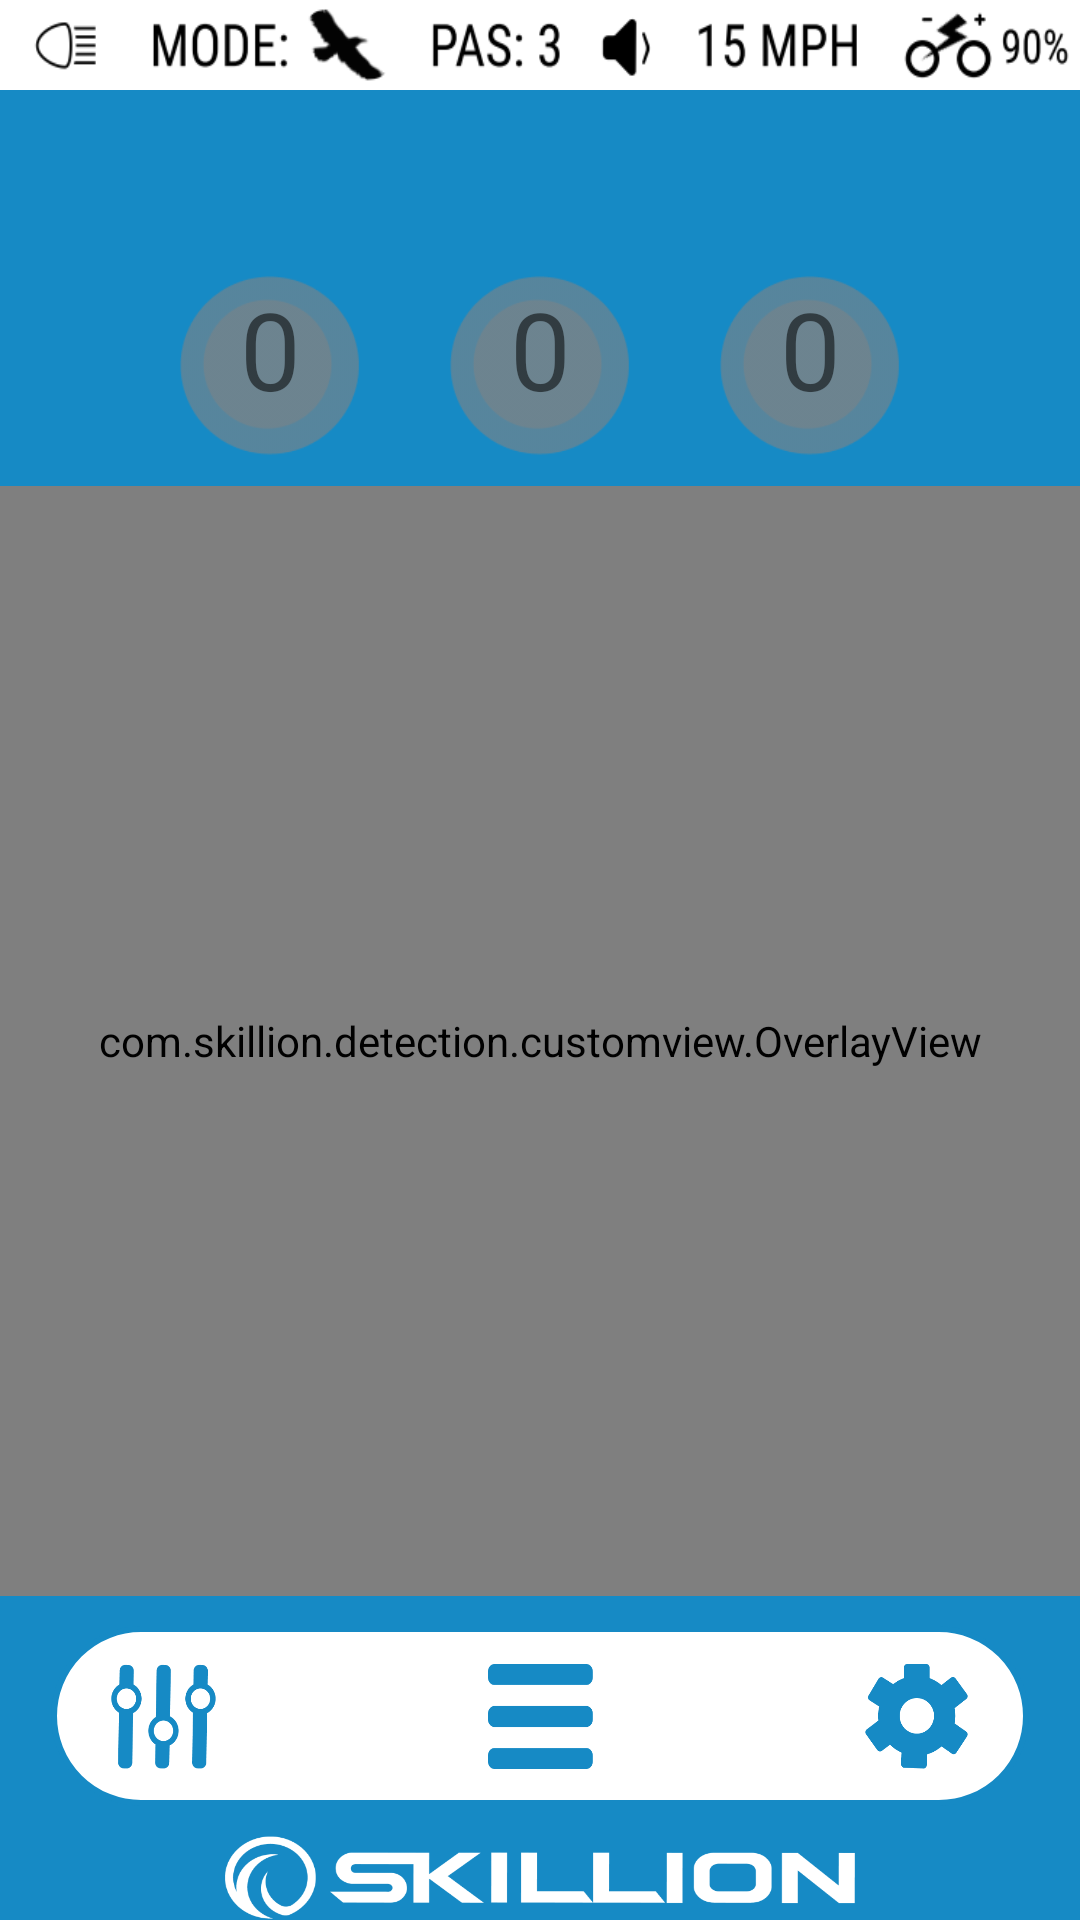

Locate icon controls on the screen. Image size 1080w x 1920h, boxes as bbox=(x1, y1, x2, y2).
menu: bbox=(488, 1664, 593, 1769)
preferences: bbox=(111, 1665, 216, 1769)
settings: bbox=(865, 1664, 968, 1769)
